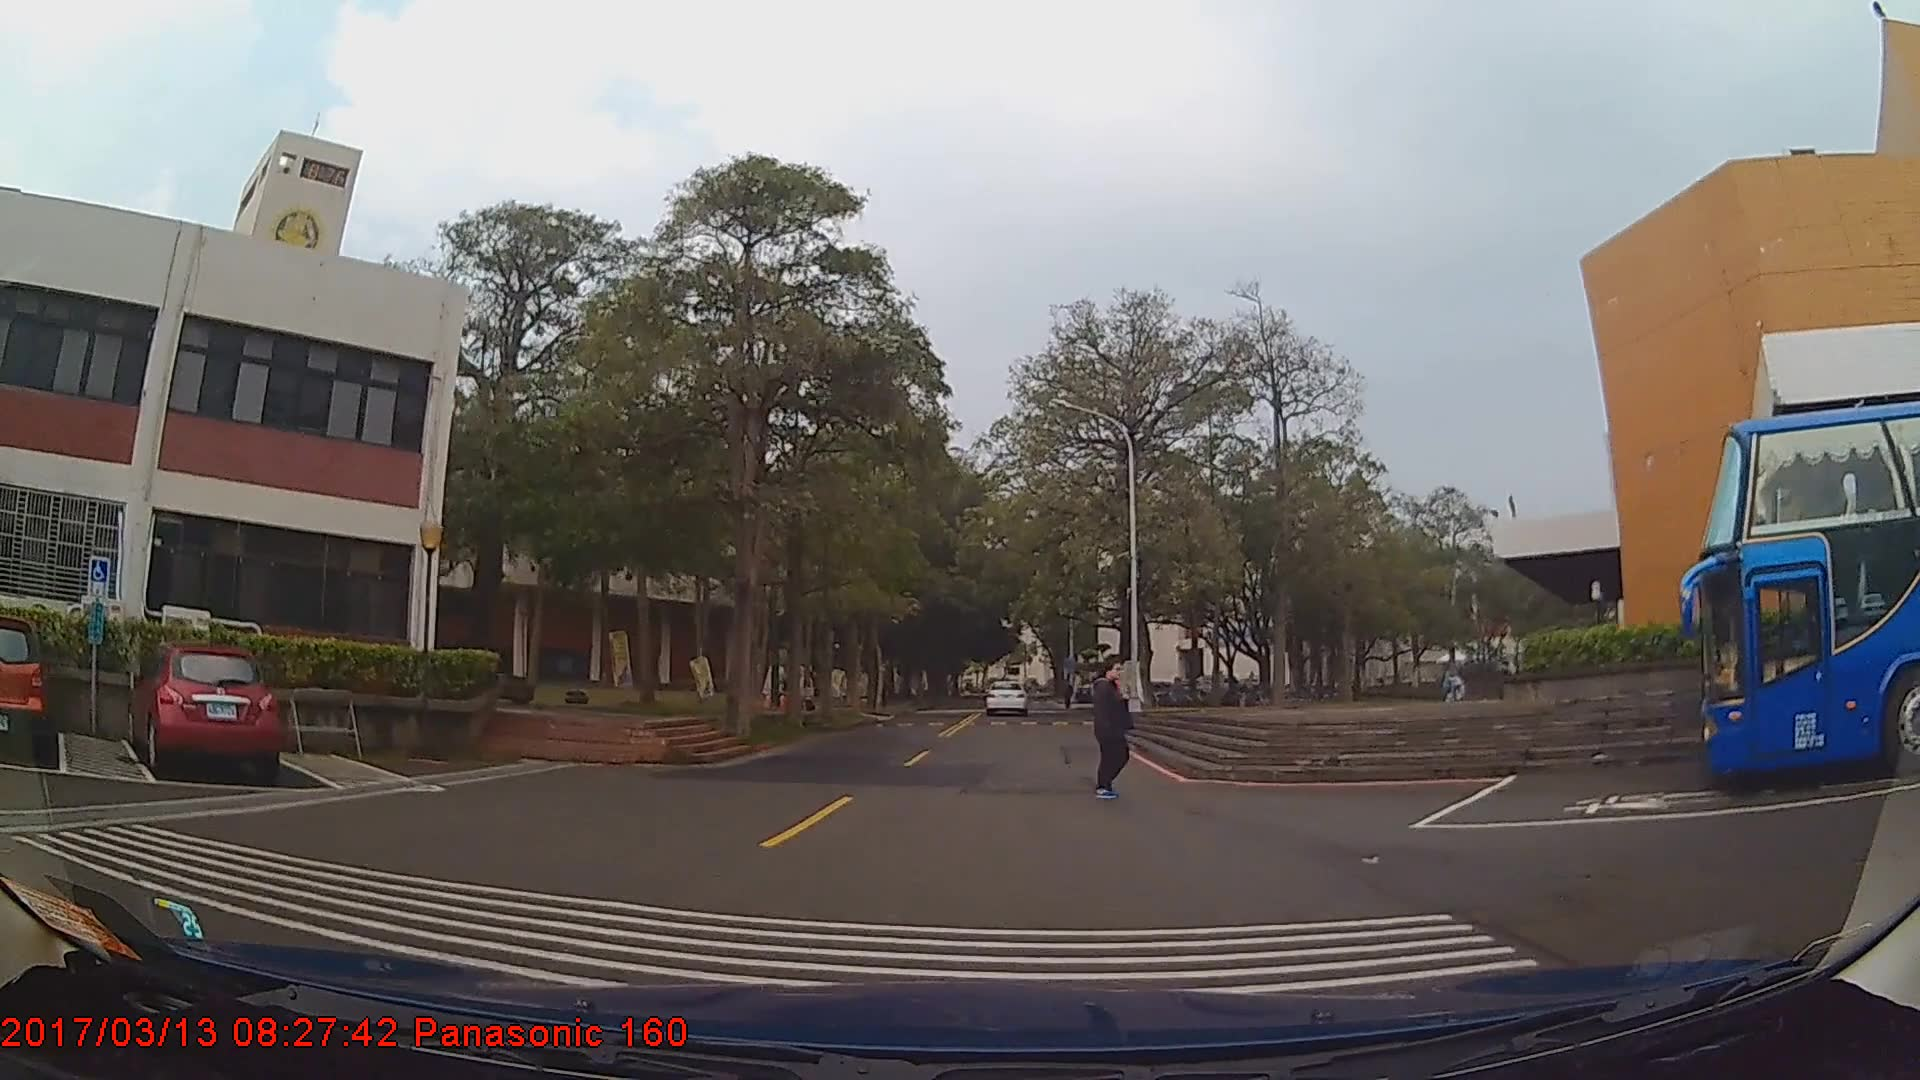pedestrian: (1089, 660, 1143, 804)
vehicle: (1695, 395, 1920, 786), (126, 646, 284, 787), (0, 611, 50, 759), (984, 678, 1026, 717)
